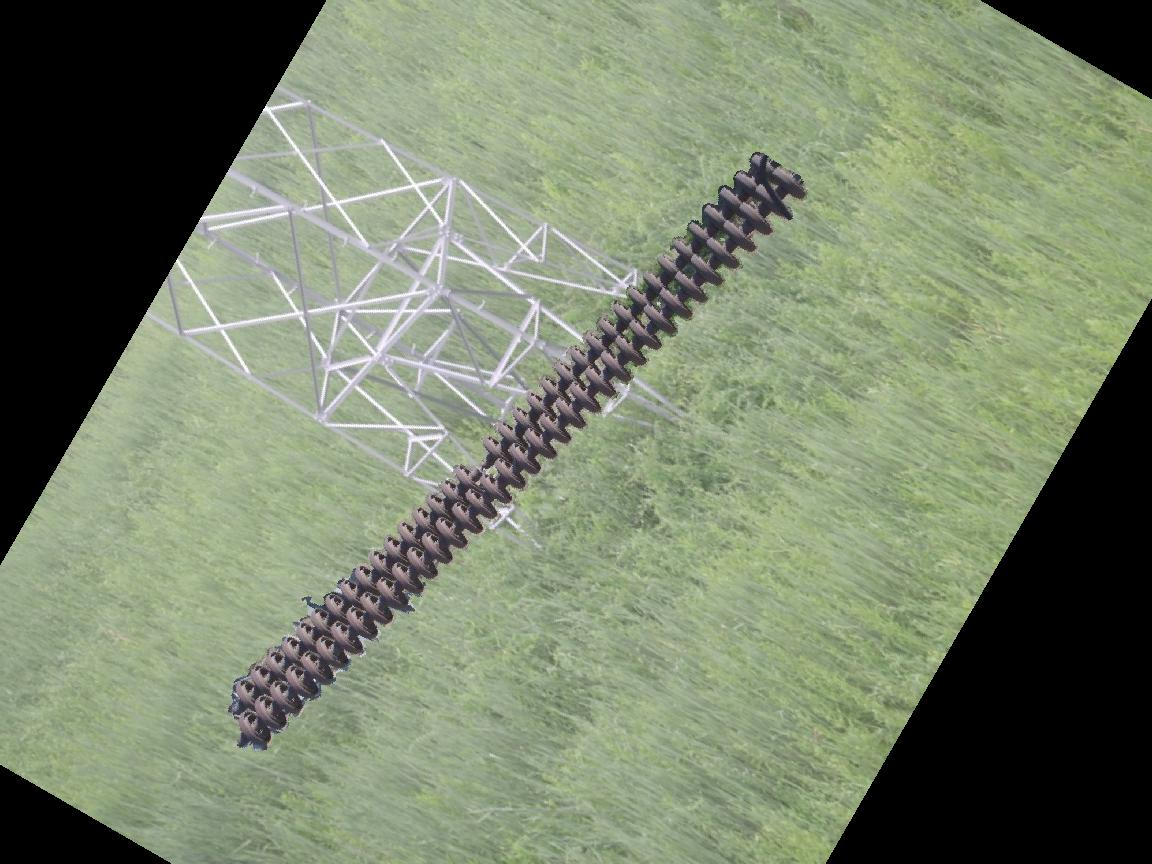insulator: (219, 147, 809, 751)
insulator_stringdrop: (449, 434, 510, 493)
